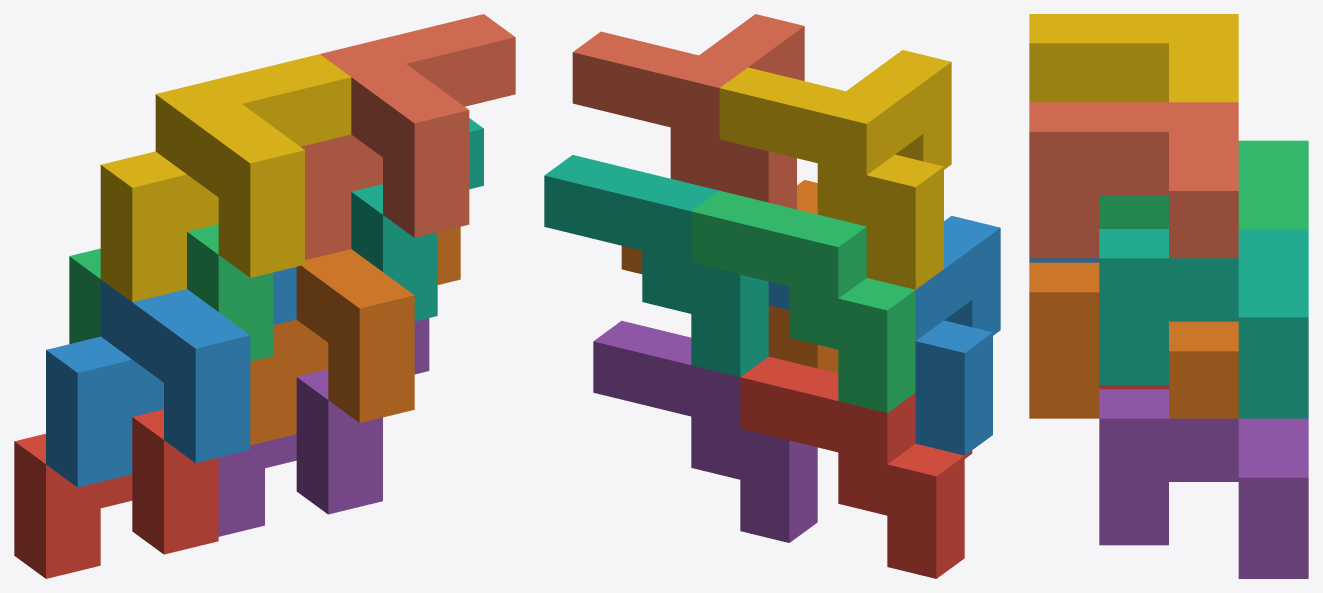
File: tiling.obj
The picture shows the model from 3 angles, left to right: view 1: azimuth 30°, elevation 25°; view 2: azimuth 150°, elevation 25°; view 3: azimuth 270°, elevation 25°; orthographic projection. The views are drawn at different scales.
Parts seen in each view (by area): view 1: copy_1_domain_4, copy_1_domain_8, copy_1_domain_2, copy_1_domain_6, copy_1_domain_1, copy_1_domain_5, copy_1_domain_3, copy_1_domain_7; view 2: copy_1_domain_4, copy_1_domain_3, copy_1_domain_1, copy_1_domain_8, copy_1_domain_7, copy_1_domain_5, copy_1_domain_2, copy_1_domain_6; view 3: copy_1_domain_7, copy_1_domain_8, copy_1_domain_5, copy_1_domain_4, copy_1_domain_6, copy_1_domain_3.
Boxes of the visible parts, x1,y1,x2,y2 form: copy_1_domain_4: [100, 54, 351, 302]; copy_1_domain_8: [301, 14, 515, 260]; copy_1_domain_2: [46, 267, 296, 487]; copy_1_domain_6: [250, 227, 460, 445]; copy_1_domain_1: [14, 409, 218, 578]; copy_1_domain_5: [218, 318, 429, 536]; copy_1_domain_3: [69, 224, 273, 361]; copy_1_domain_7: [351, 118, 483, 321]; copy_1_domain_4: [719, 50, 951, 289]; copy_1_domain_3: [691, 191, 915, 412]; copy_1_domain_1: [740, 356, 972, 578]; copy_1_domain_8: [572, 14, 804, 209]; copy_1_domain_7: [544, 155, 768, 377]; copy_1_domain_5: [593, 320, 817, 542]; copy_1_domain_2: [768, 216, 1000, 455]; copy_1_domain_6: [621, 180, 838, 373]; copy_1_domain_7: [1099, 229, 1308, 418]; copy_1_domain_8: [1029, 102, 1238, 258]; copy_1_domain_5: [1099, 389, 1308, 578]; copy_1_domain_4: [1029, 14, 1238, 102]; copy_1_domain_6: [1029, 262, 1238, 418]; copy_1_domain_3: [1099, 140, 1308, 228].
Size of the model in its own units: 8 by 8 by 4.
